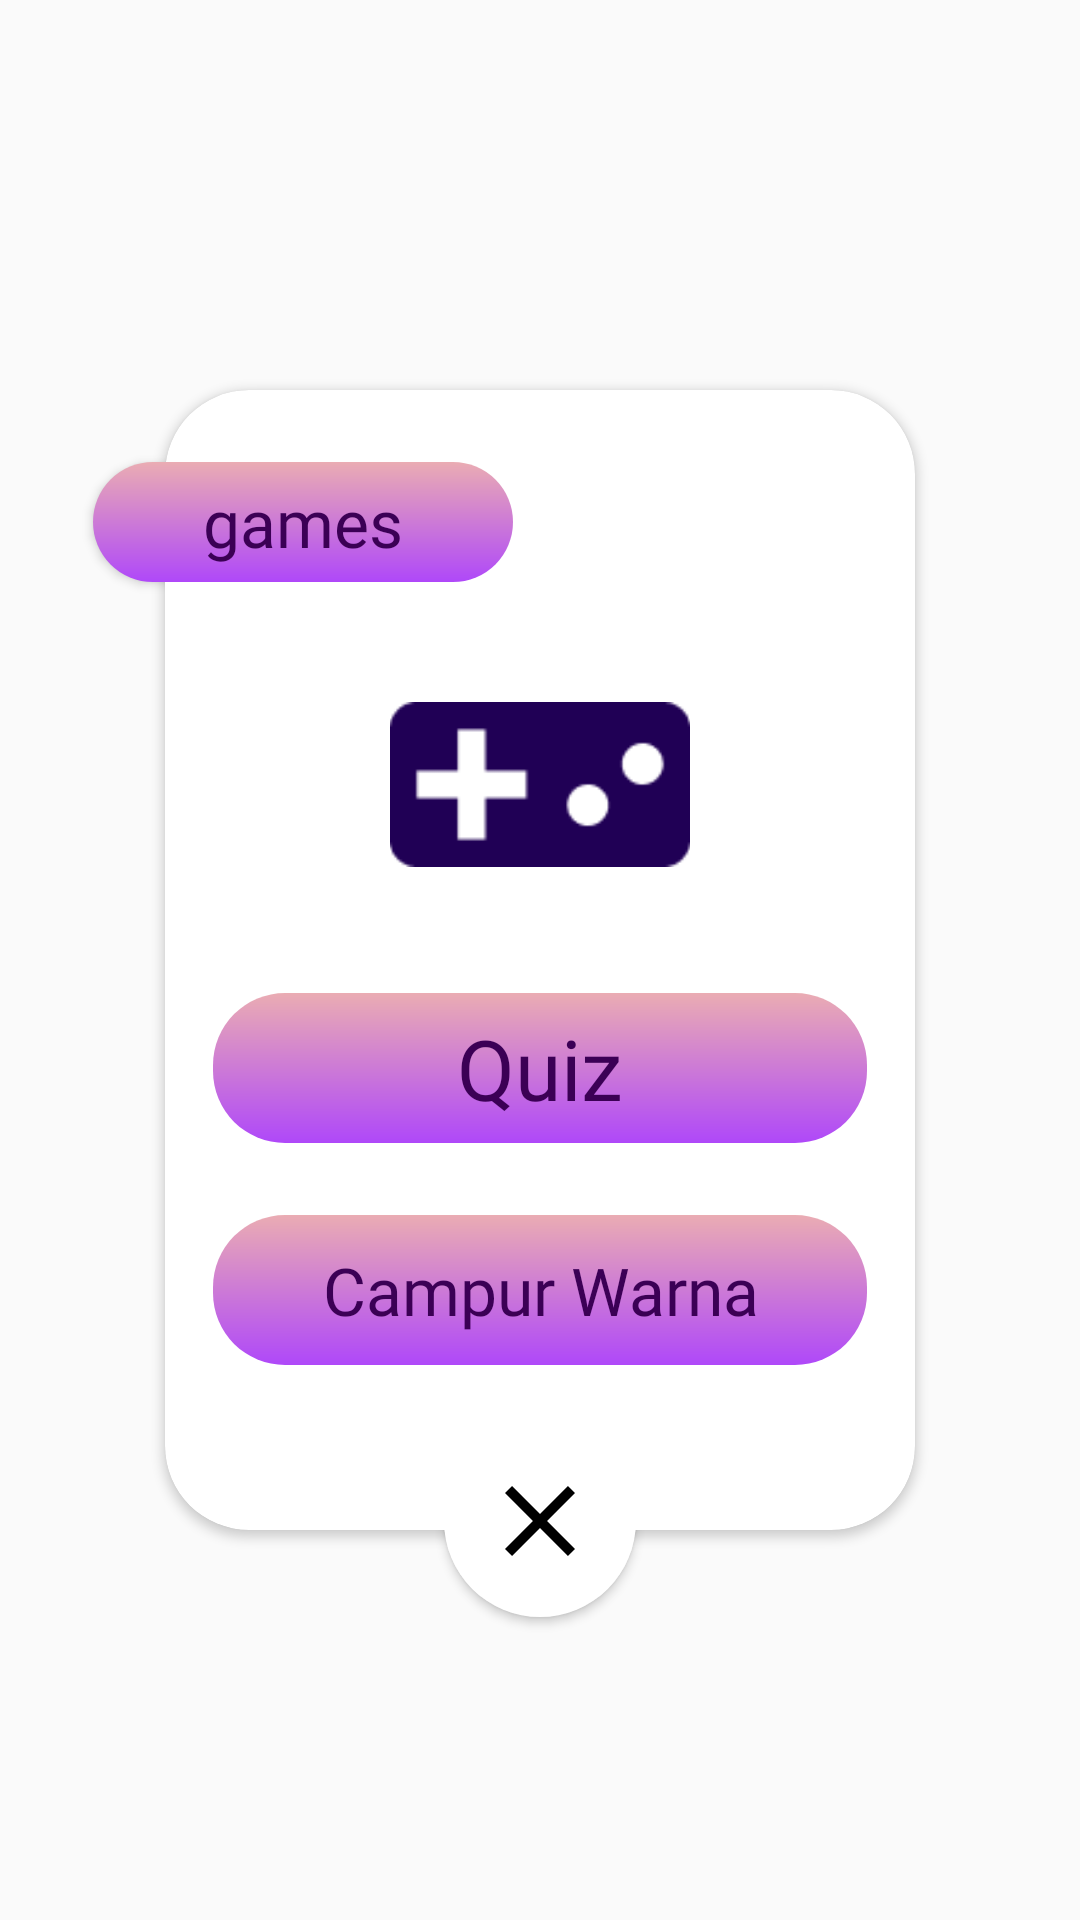

Icons on this 1080 x 1920 Android screen, each with its box as bbox=[x1, y1, x2, y2]:
closepopup: bbox=[505, 1486, 575, 1556]
